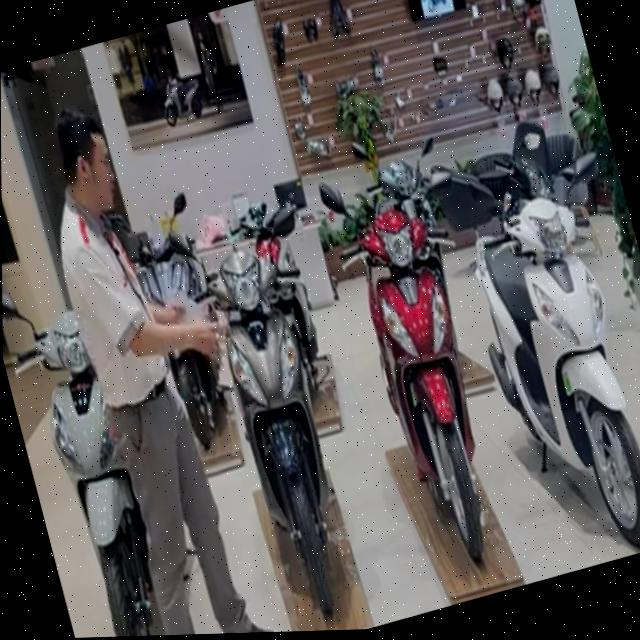motorcycle: (147, 191, 402, 636), (311, 148, 542, 613), (430, 139, 640, 584), (2, 249, 208, 640)
